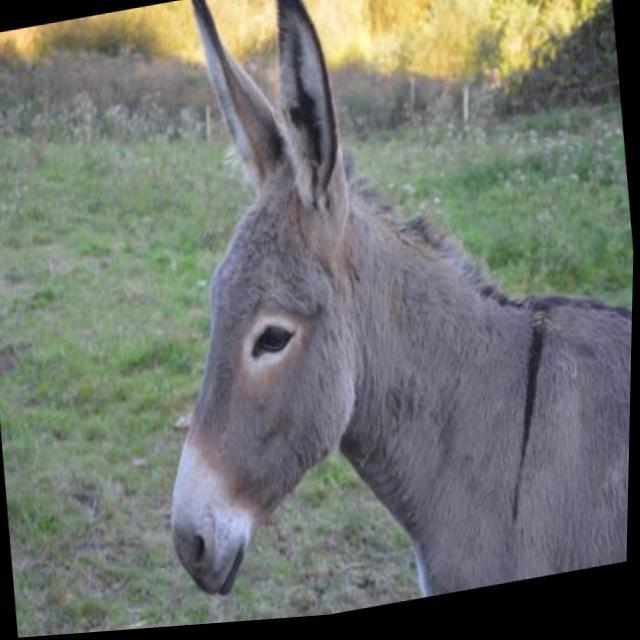Donkey: (115, 0, 640, 633)
